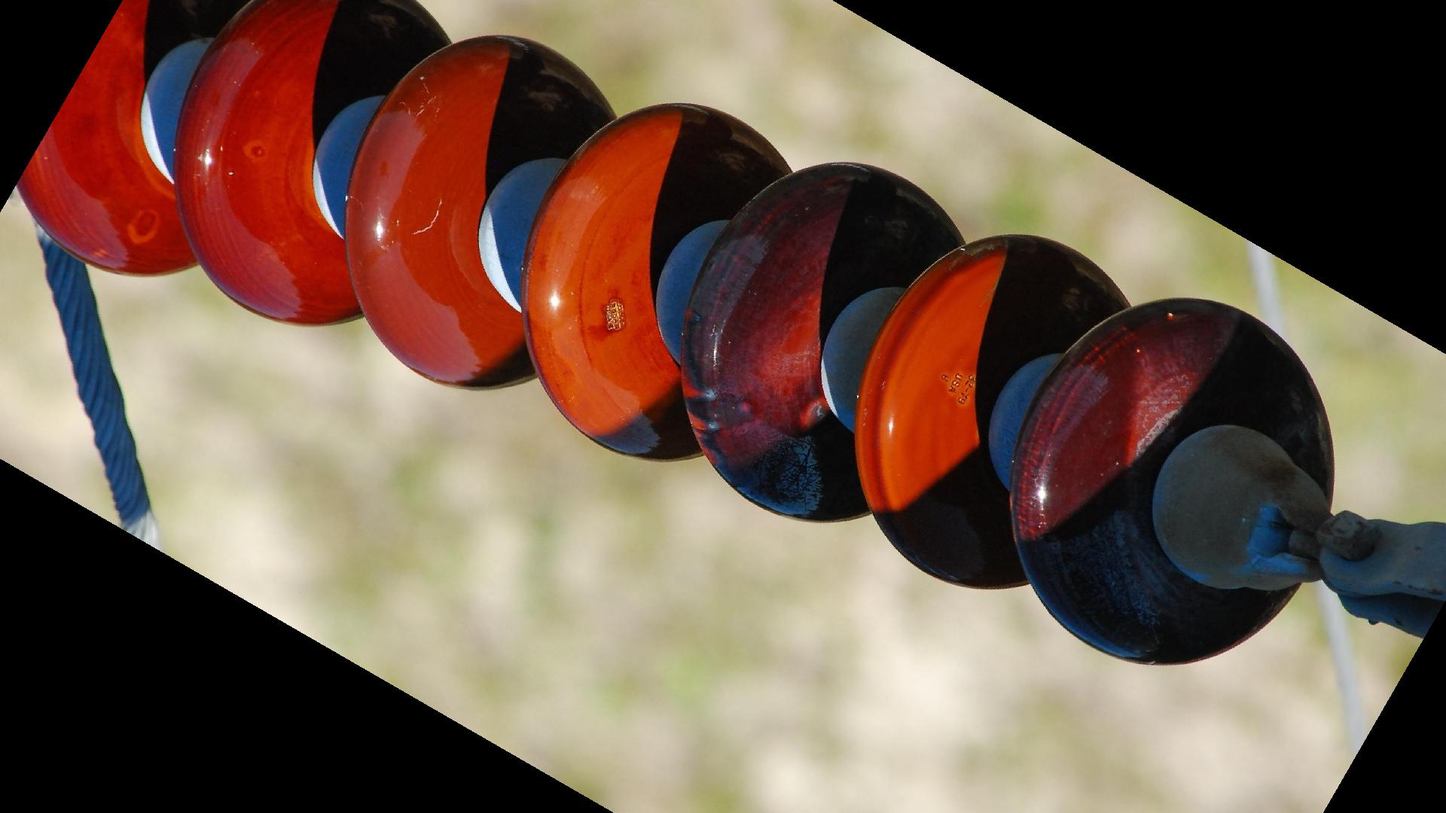insulator: (15, 1, 1345, 671)
insulator_flashover: (703, 393, 824, 523)
